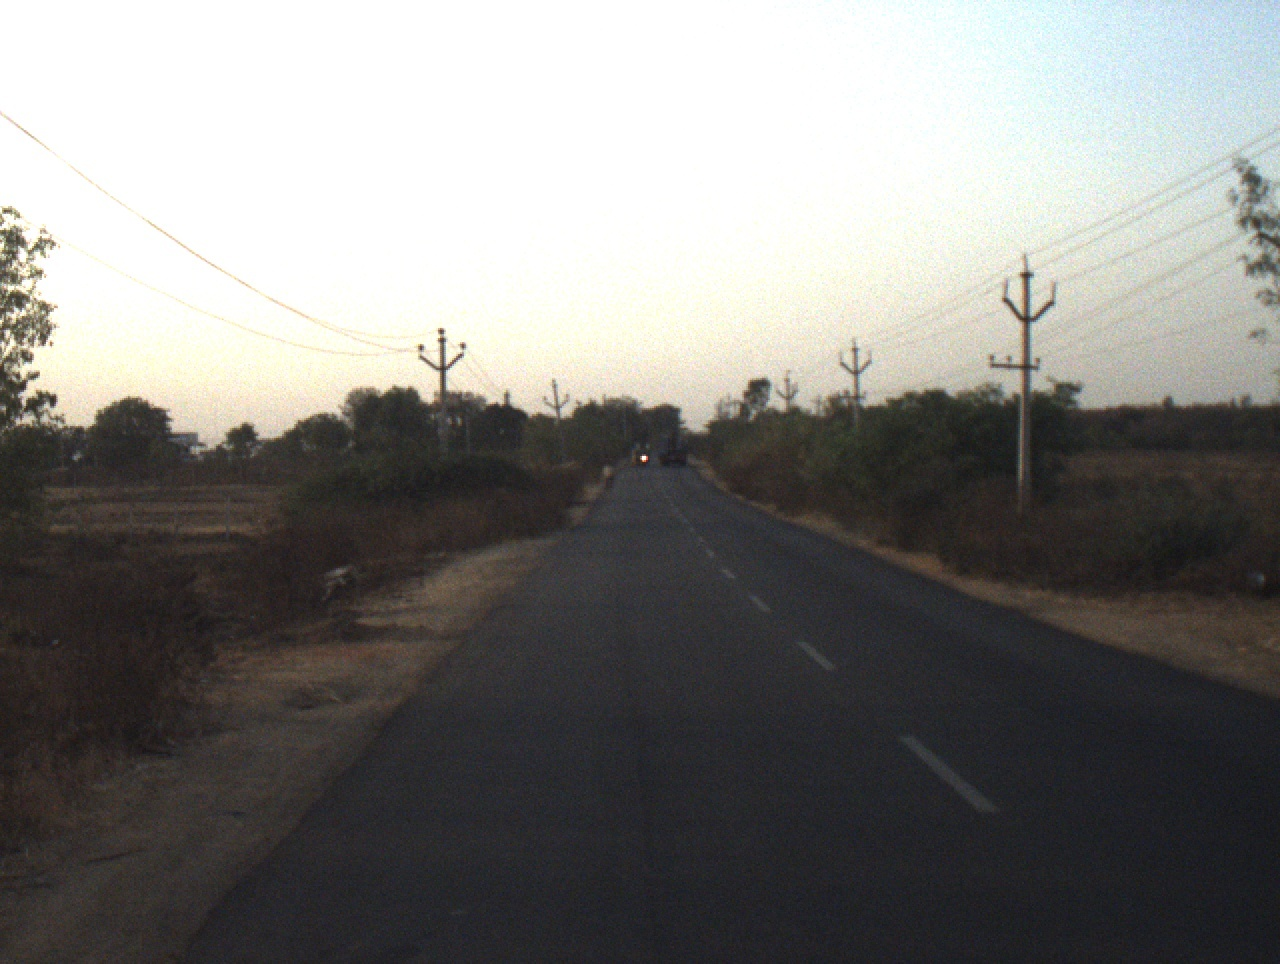bicycle: (603, 476, 613, 492)
rider: (600, 461, 614, 490)
vehicle fallback: (657, 432, 691, 468), (629, 445, 654, 468)
